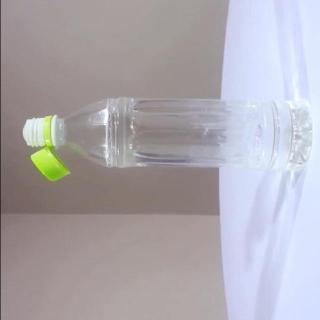Anorganik: (17, 100, 320, 181)
